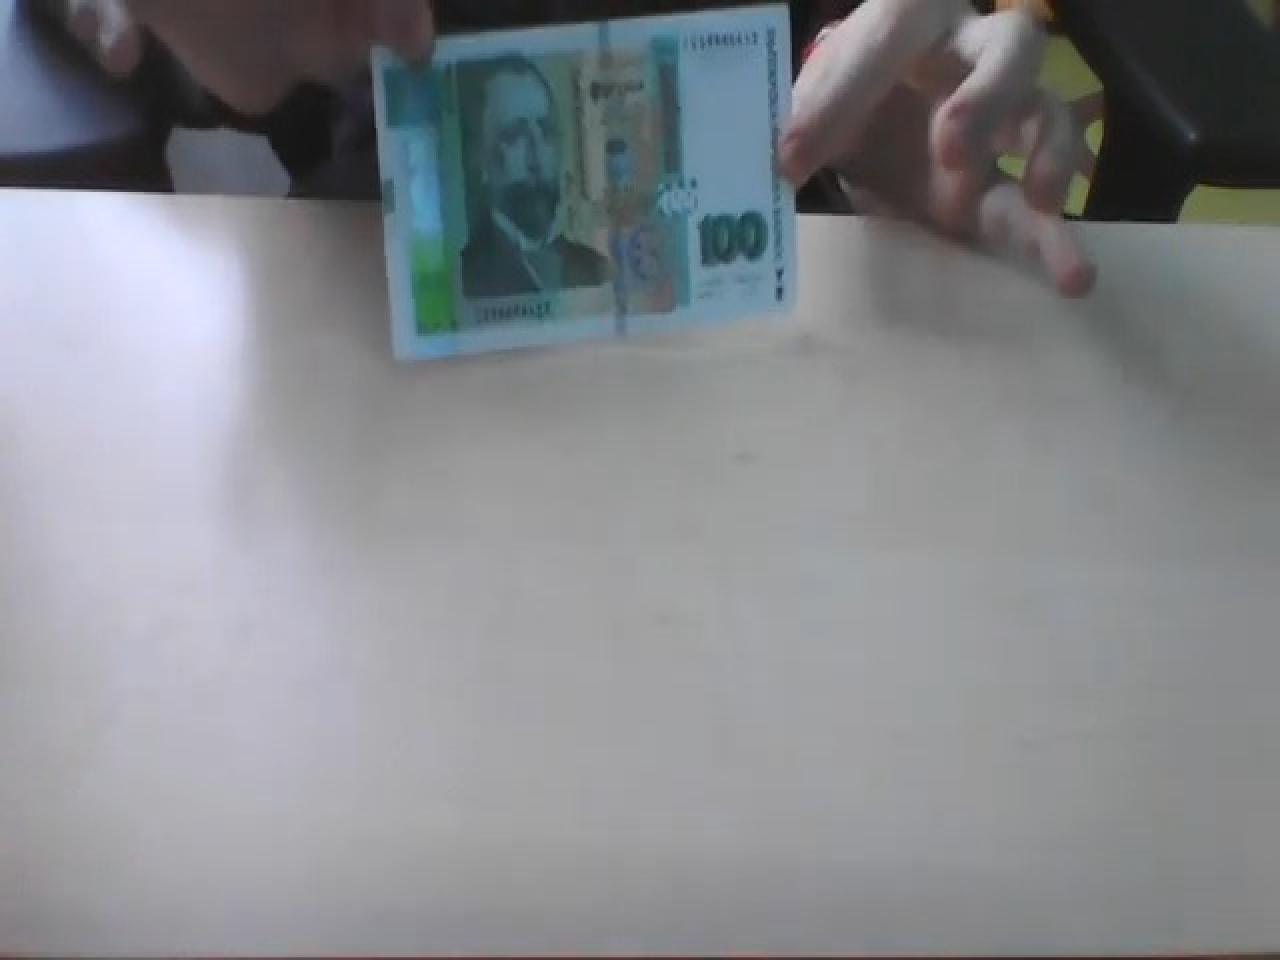100leva: (370, 2, 798, 362), (452, 50, 612, 302), (696, 206, 768, 269)
